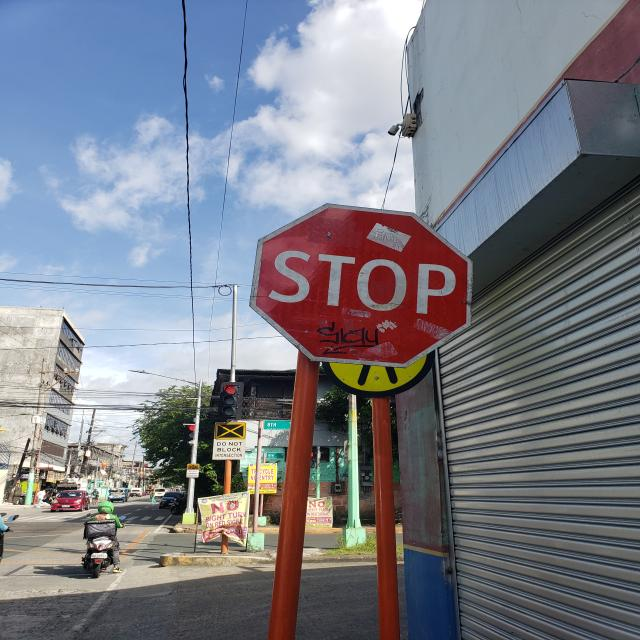stop-sign: (248, 202, 474, 369)
